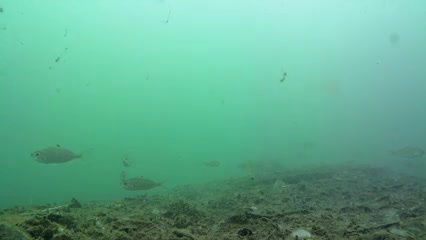smallfish: (22, 140, 87, 171), (119, 173, 167, 199)
